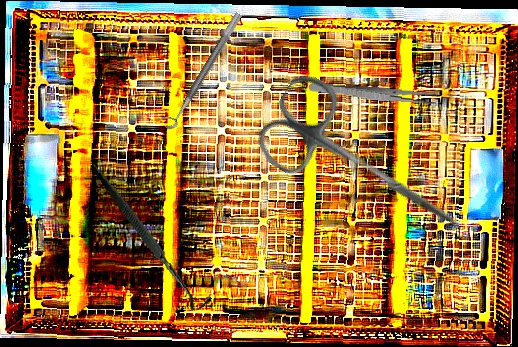Dressing Forceps: (308, 81, 438, 106)
Fixation Ring: (156, 5, 243, 133)
Hook Surgical: (91, 149, 213, 323)
Iris Scissors: (249, 67, 487, 264)
